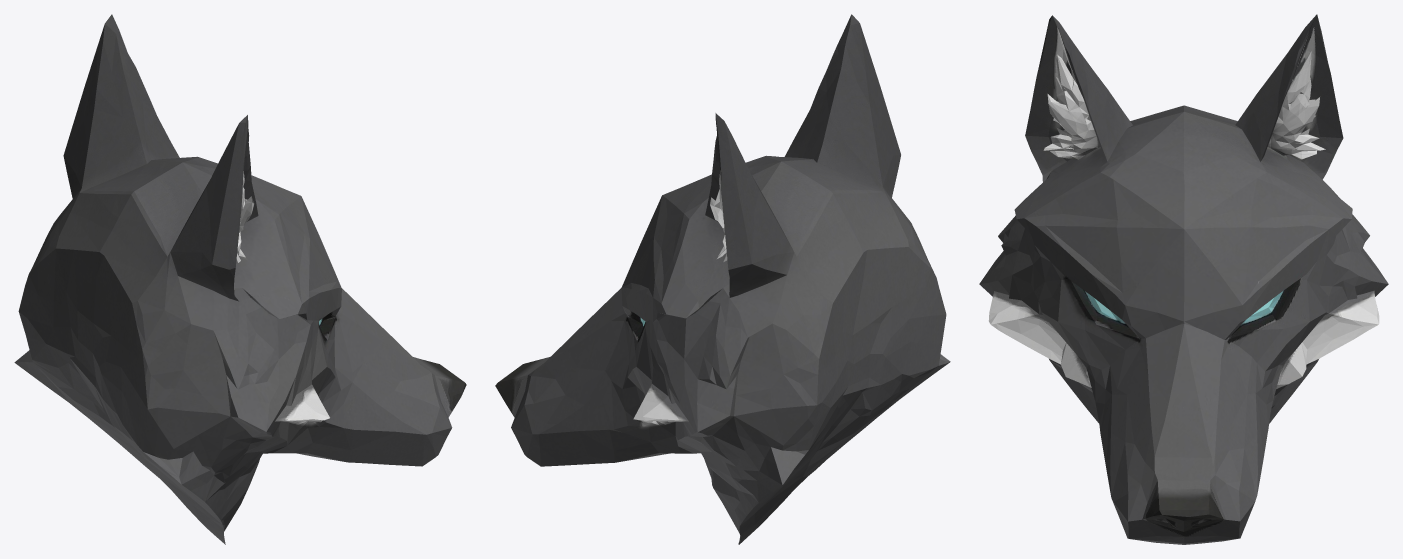
File: wolf.glb
3 views of the same model, side by side, from view 1: azimuth 30°, elevation 25°; view 2: azimuth 150°, elevation 25°; view 3: azimuth 270°, elevation 25° (orthographic). The views are drawn at different scales.
Visible parts, largest first — view 1: tripo_node_58d95f80-40e5-4c71-8885-9382edab789a; view 2: tripo_node_58d95f80-40e5-4c71-8885-9382edab789a; view 3: tripo_node_58d95f80-40e5-4c71-8885-9382edab789a.
Part boxes in pixels (x1,y1,x2,y2): tripo_node_58d95f80-40e5-4c71-8885-9382edab789a: (14, 14, 466, 544); tripo_node_58d95f80-40e5-4c71-8885-9382edab789a: (495, 14, 950, 544); tripo_node_58d95f80-40e5-4c71-8885-9382edab789a: (979, 14, 1388, 544).
Size of the model in its own units: 0.7969 by 1 by 0.7766.
1 material, 1 textured.
